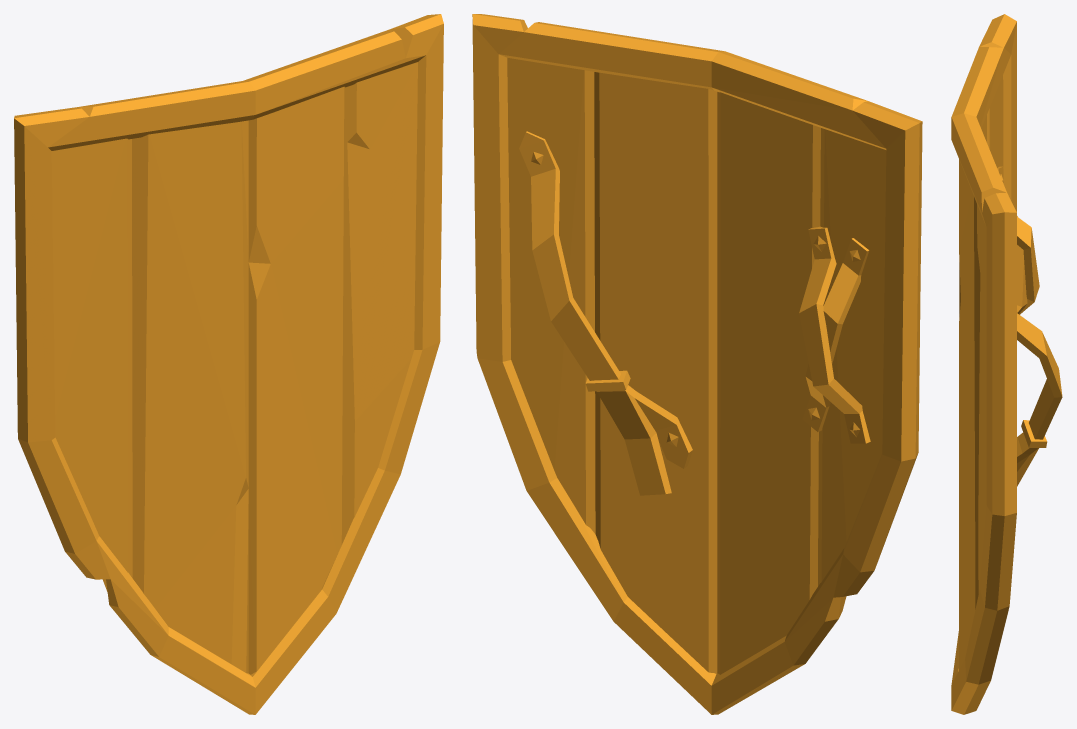
File: SM_Shield_Heater_A.fbx
3 renders of one model, left to right at view 1: azimuth 30°, elevation 25°; view 2: azimuth 150°, elevation 25°; view 3: azimuth 270°, elevation 25°, orthographic. The views are drawn at different scales.
Visible parts, largest first — view 1: shield-heater-a; view 2: shield-heater-a; view 3: shield-heater-a.
Boxes of the visible parts, box(x1,y1,x2,y2) form: shield-heater-a: box(14, 14, 443, 714); shield-heater-a: box(472, 14, 922, 714); shield-heater-a: box(951, 14, 1062, 714).
Size of the model in its own units: 0.5606 by 0.7934 by 0.1326.
